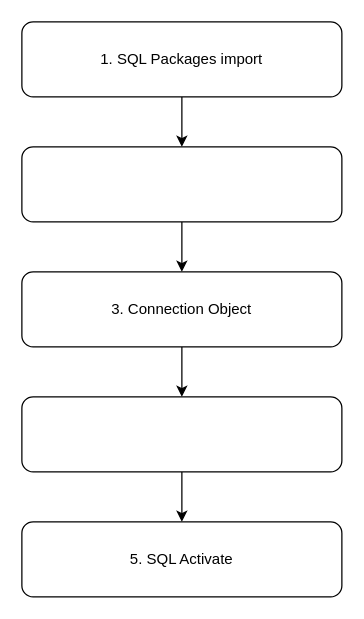
Image size: 364x619. Some labels were removed from this diagram. The centre of each missing label's shape, as x and y in pixels:
"2. JDBC Driver Load" goes at point (181, 184).
"4. Statement Object" goes at point (181, 434).
